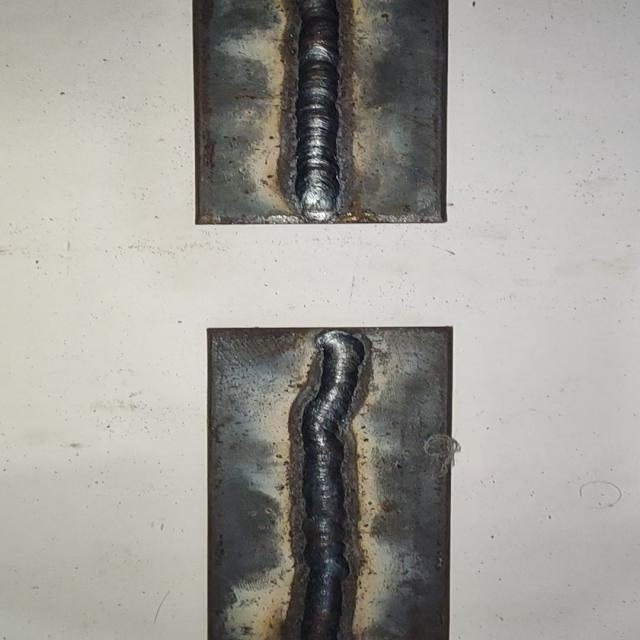Good Weld: (294, 331, 371, 640), (294, 0, 341, 218)
